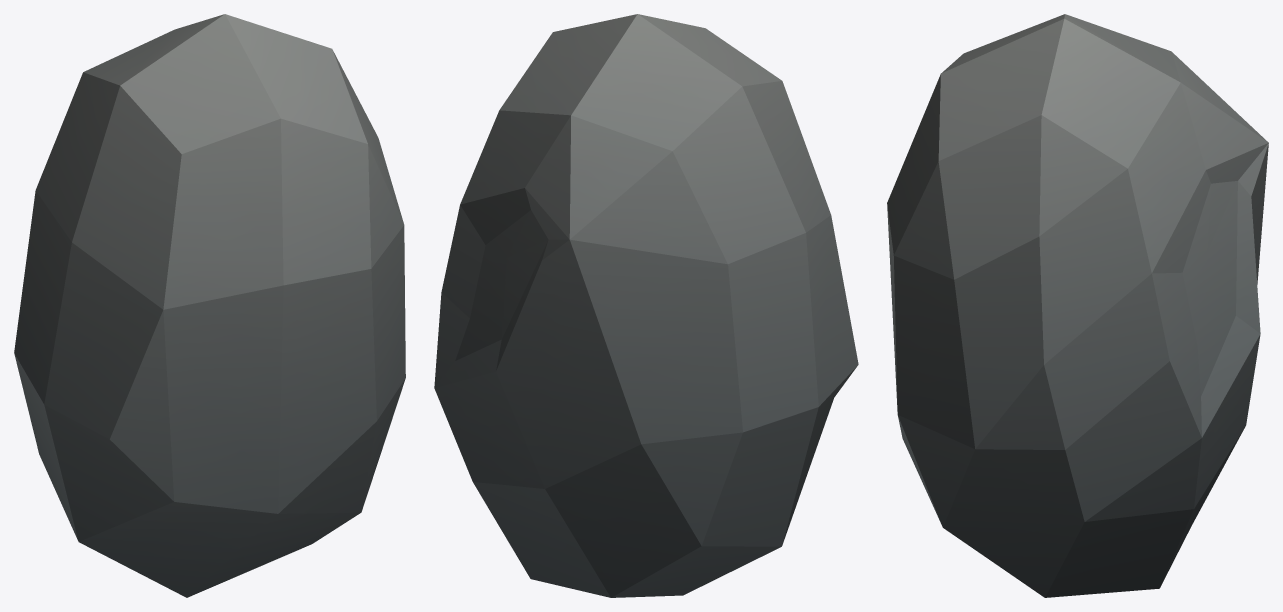
The model's file is Rock_Medium_C.fbx.
3 views of the same model, side by side, from view 1: azimuth 30°, elevation 25°; view 2: azimuth 150°, elevation 25°; view 3: azimuth 270°, elevation 25° (orthographic).
Visible parts, largest first — view 1: Rock_Medium_C; view 2: Rock_Medium_C; view 3: Rock_Medium_C.
Boxes of the visible parts, bbox=[...] form: Rock_Medium_C: bbox=[14, 14, 405, 597]; Rock_Medium_C: bbox=[434, 14, 858, 597]; Rock_Medium_C: bbox=[887, 14, 1268, 597].
Size of the model in its own units: 144 by 229 by 139.
